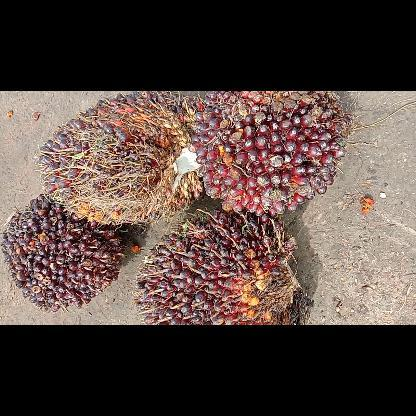Kurang masak: (35, 90, 202, 228), (188, 90, 350, 222), (136, 207, 312, 324), (0, 193, 127, 311)
